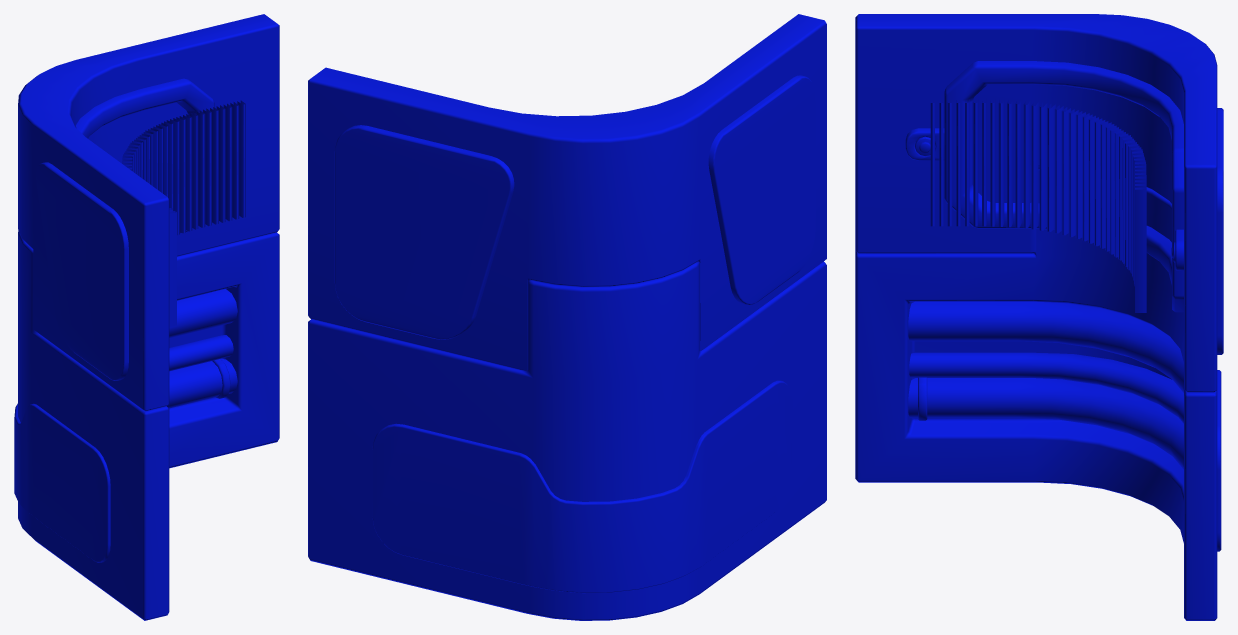
Rendered from WallAngle02.fbx.
3 renders of one model, left to right at view 1: azimuth 30°, elevation 25°; view 2: azimuth 150°, elevation 25°; view 3: azimuth 270°, elevation 25°, orthographic. The views are drawn at different scales.
Visible parts, largest first — view 1: SM_WallAngle02; view 2: SM_WallAngle02; view 3: SM_WallAngle02.
Part boxes in pixels (x1=…): SM_WallAngle02: x1=14, y1=14, x2=279, y2=620; SM_WallAngle02: x1=308, y1=14, x2=826, y2=620; SM_WallAngle02: x1=855, y1=14, x2=1223, y2=620.
Size of the model in its own units: 1.1 by 1.5 by 1.1.
